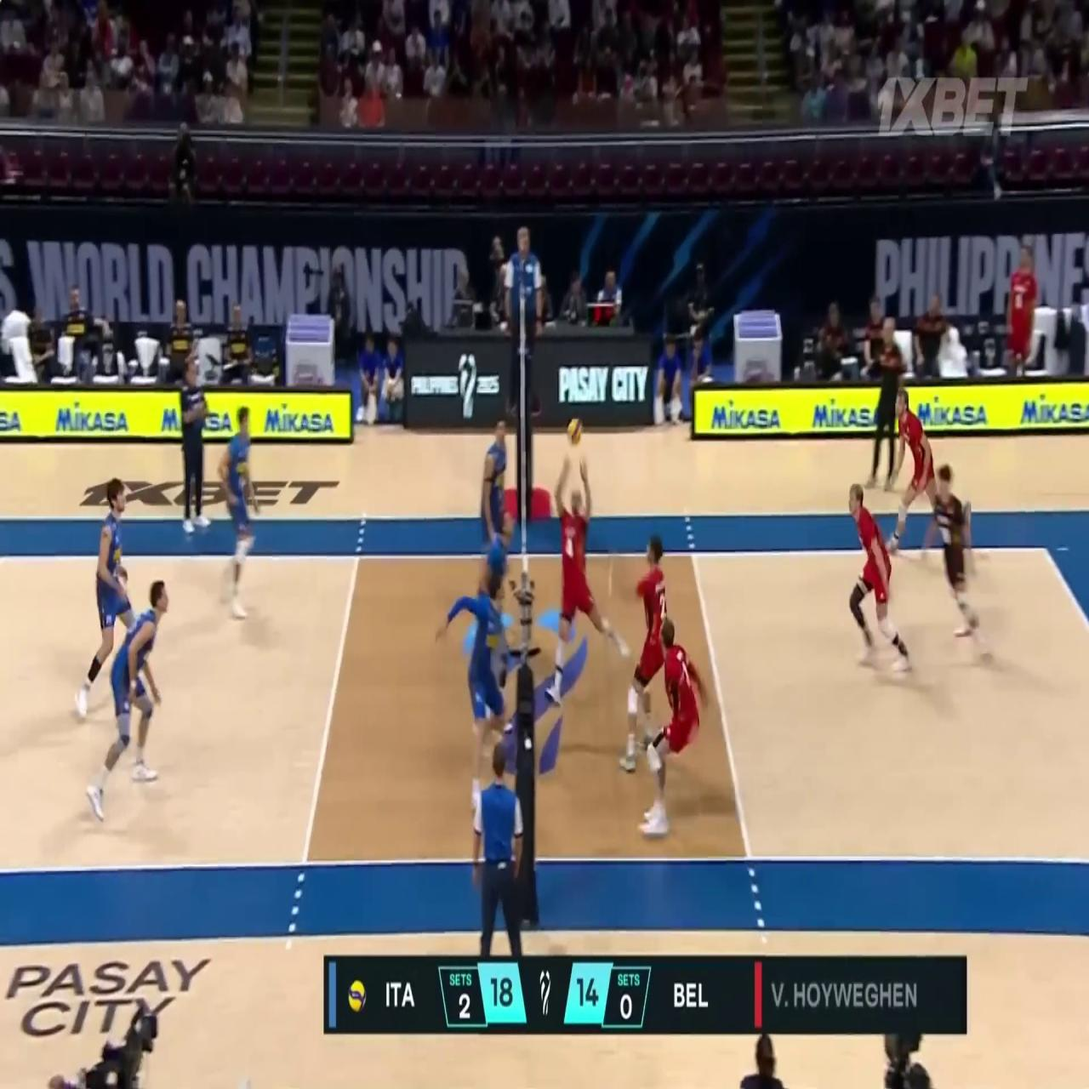ball: (567, 418, 583, 446)
